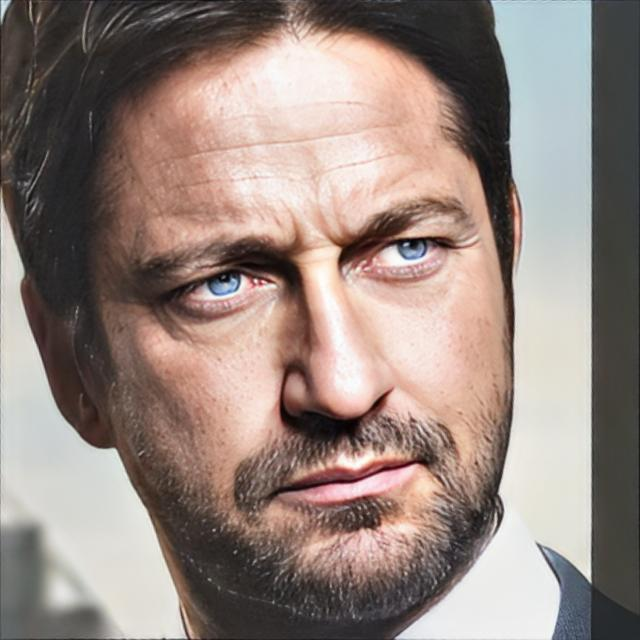anger: (90, 40, 512, 598)
